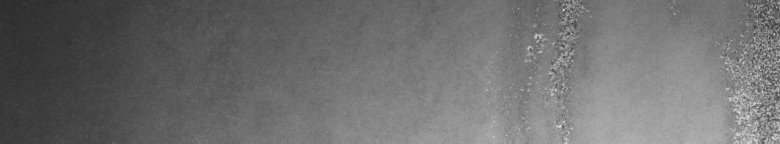hc: (671, 4, 776, 136)
